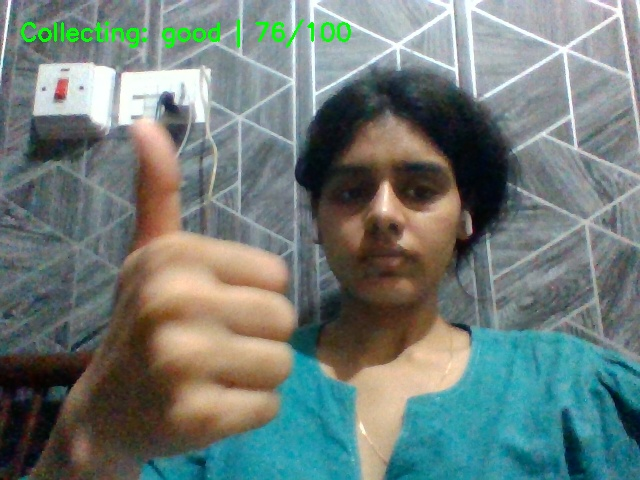good: (59, 111, 313, 459)
